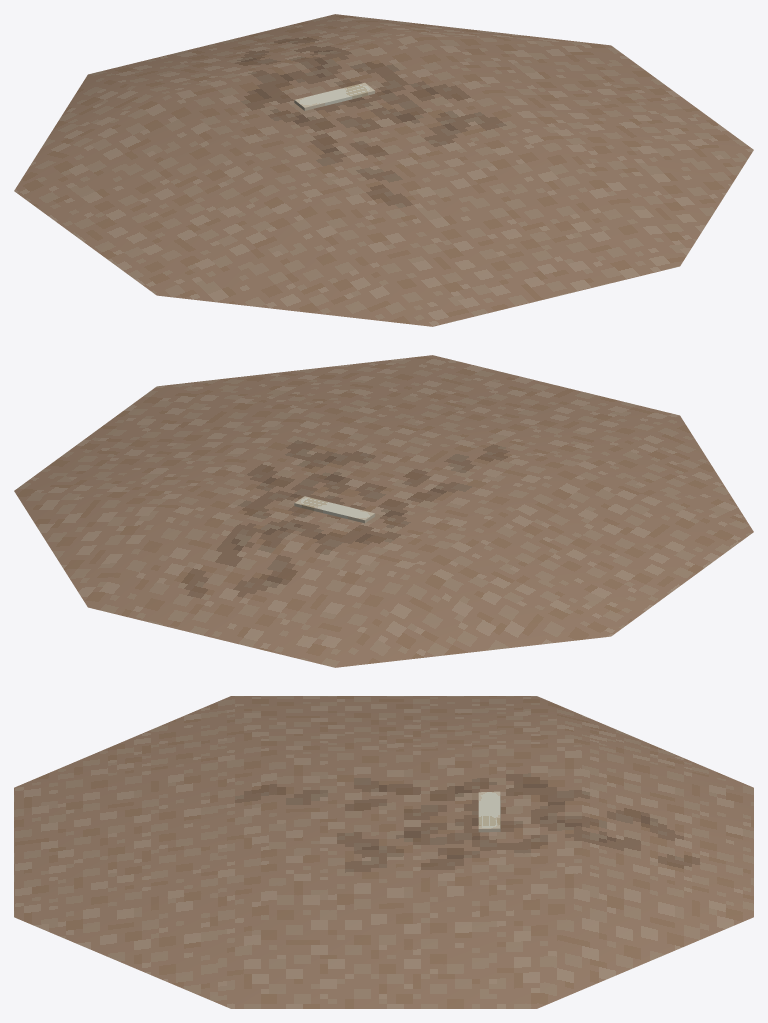
File: 043e_Pitcher_s_Mound.glb
The picture shows the model from 3 angles, top to bottom: view 1: azimuth 30°, elevation 25°; view 2: azimuth 150°, elevation 25°; view 3: azimuth 270°, elevation 25°; orthographic projection. The views are drawn at different scales.
Parts seen in each view (by area): view 1: part_0; view 2: part_0; view 3: part_0.
Part boxes in pixels (box(x1,y1,x2,y2)): part_0: box(14, 14, 753, 326); part_0: box(14, 355, 753, 667); part_0: box(14, 696, 753, 1008).
Size of the model in its own units: 4.07 by 0.2569 by 4.07.
Materials: 1 (1 with a texture image).
